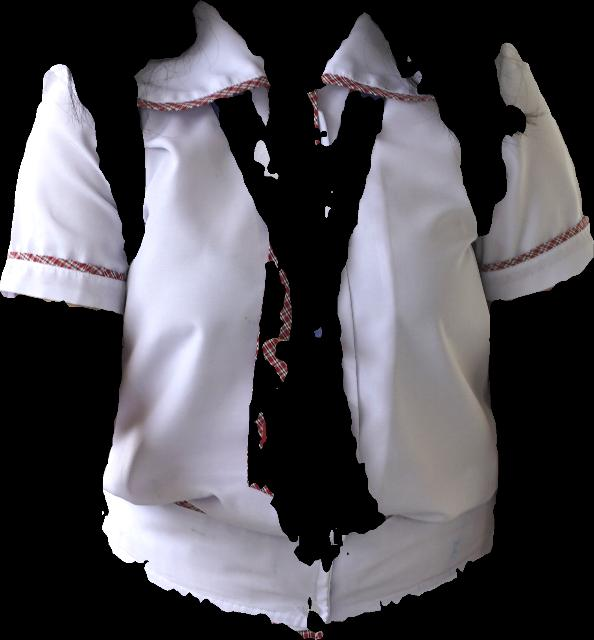pologirl: (0, 1, 593, 639)
